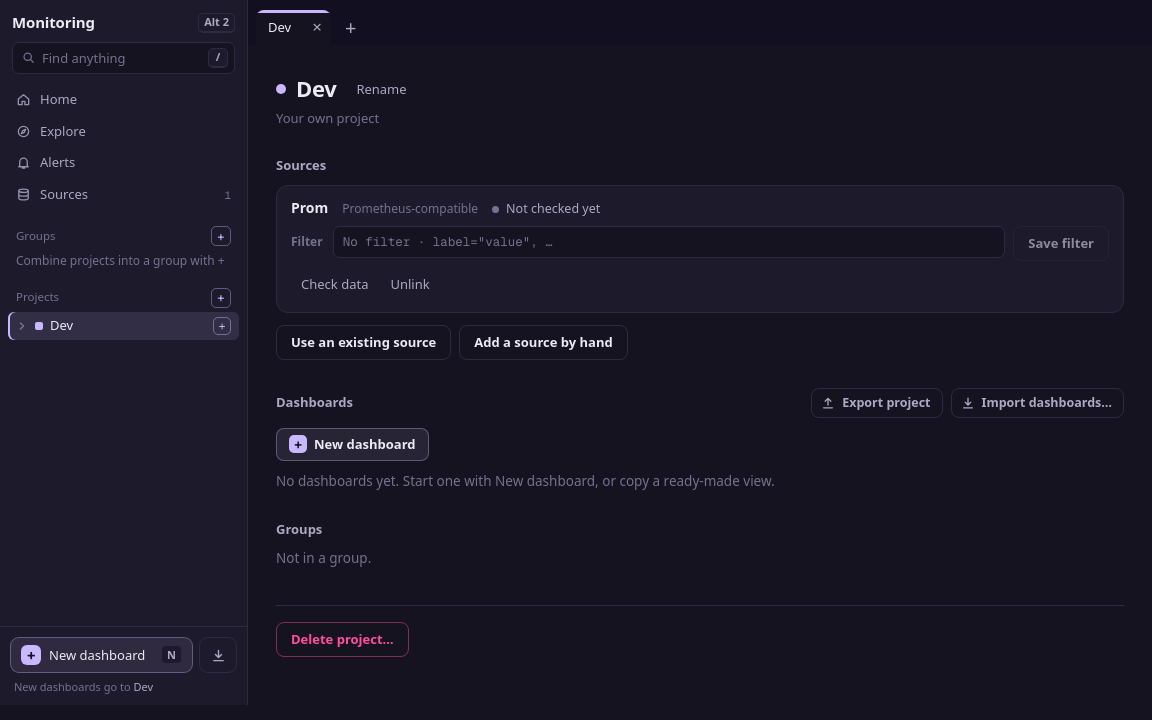
Scenario: Project page › says in words when a check fails
Click the button with aria-label "Check data for Prom" at (335, 284), box [291,269,378,300]
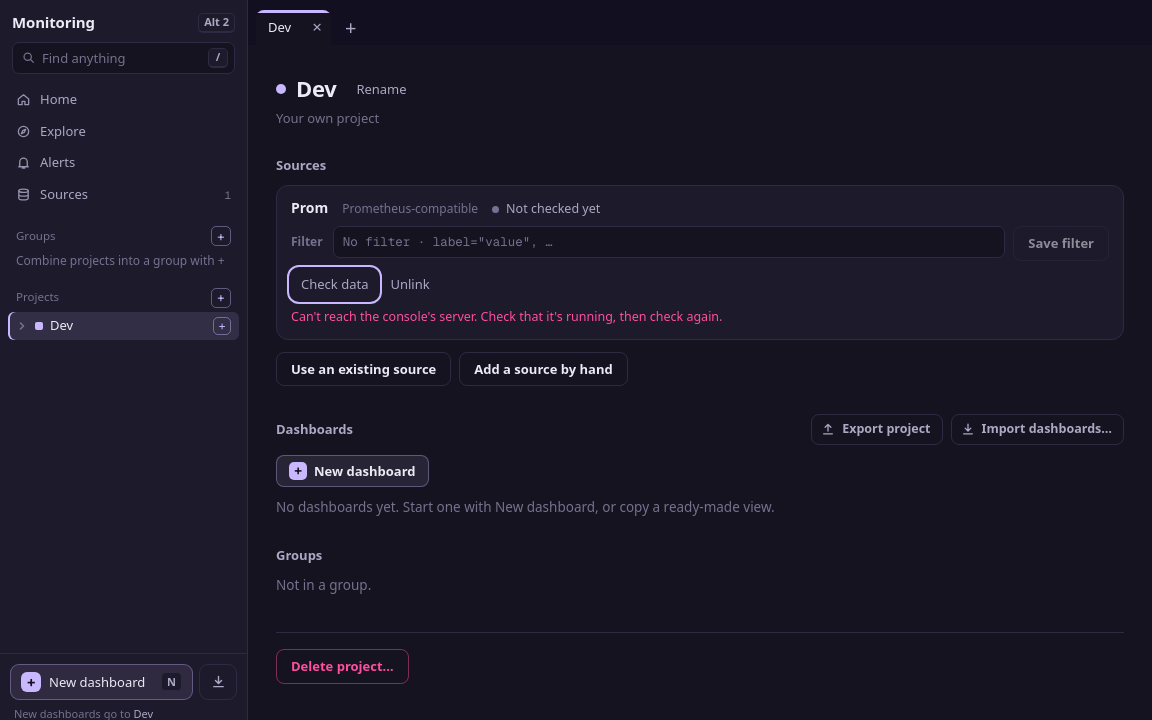
Now the text "Can't reach the console's server. Check that it's running, then check again." is shown, box [291,308,722,325]
